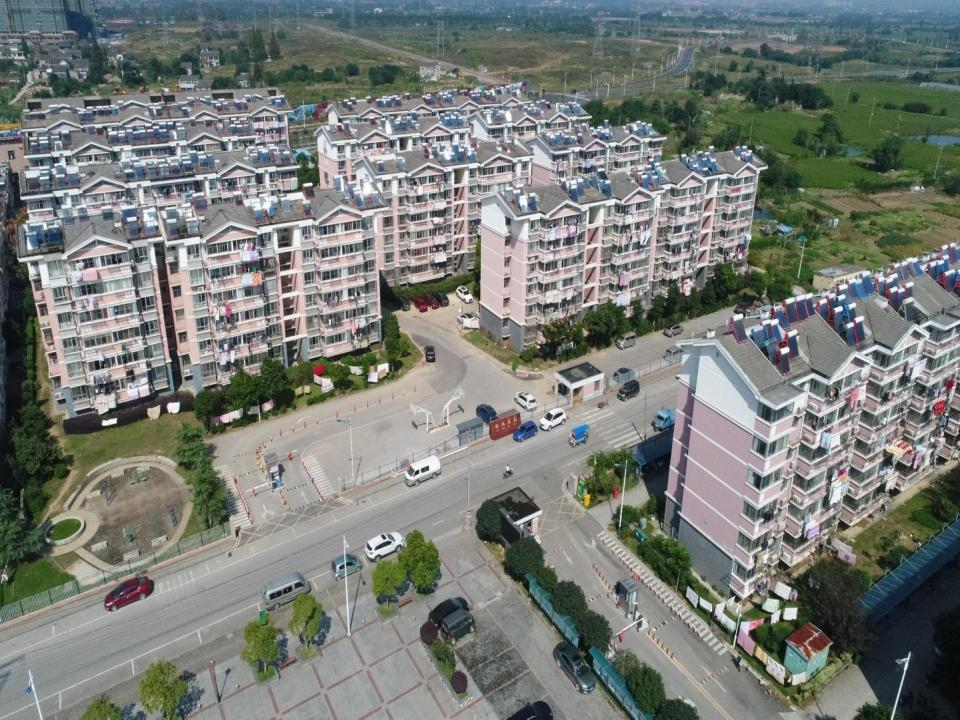car: (553, 640, 596, 694), (104, 575, 150, 612), (428, 596, 469, 630), (364, 530, 406, 563), (330, 553, 364, 582), (539, 406, 567, 432), (513, 390, 538, 414), (513, 419, 538, 443), (617, 378, 640, 401), (476, 404, 499, 424), (455, 284, 474, 304), (613, 367, 635, 384), (423, 290, 440, 310), (663, 322, 684, 338), (433, 289, 449, 307), (456, 312, 477, 325), (413, 294, 428, 312), (423, 344, 437, 363), (396, 295, 410, 311), (734, 300, 747, 313), (476, 308, 488, 320), (570, 89, 577, 95)
van: (261, 570, 311, 612), (440, 607, 475, 645), (404, 454, 442, 487), (615, 330, 637, 350), (663, 344, 687, 362)
